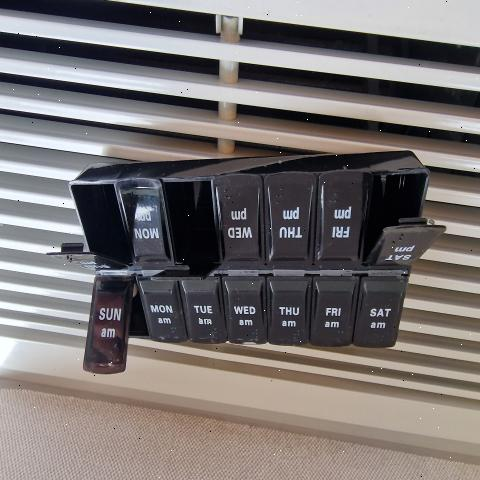Open: (366, 174, 447, 264), (153, 181, 219, 281), (53, 182, 130, 264), (125, 274, 148, 372)
